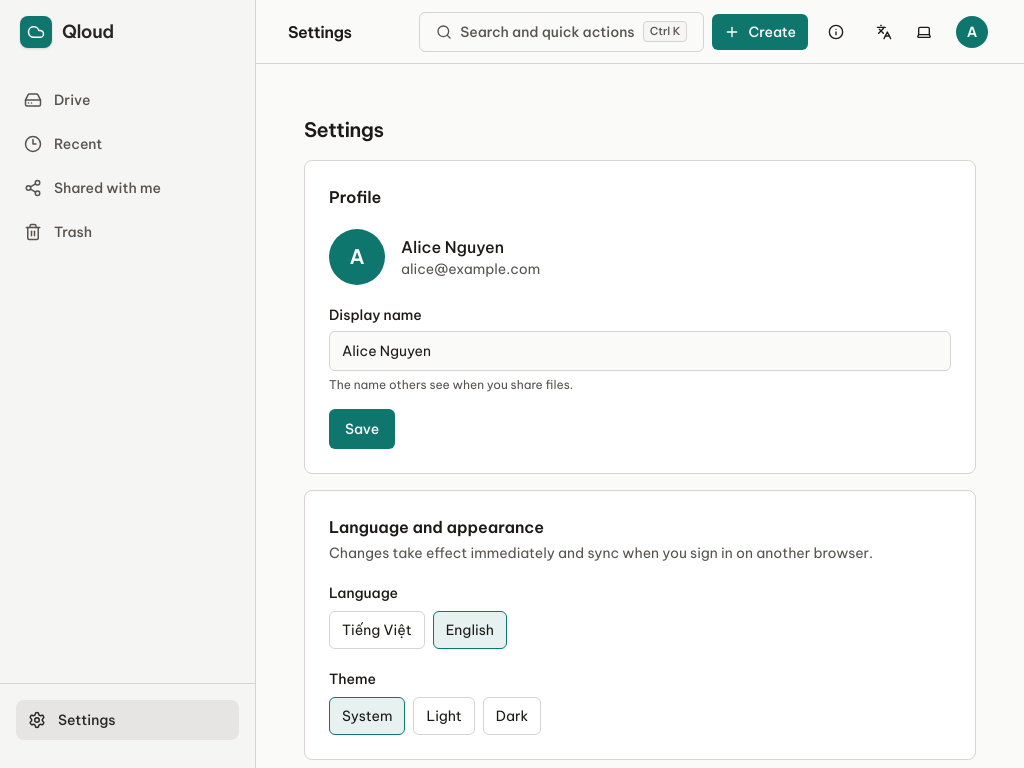
Test: settings (S-13) › shows the profile and saves the display name
Expected: the heading "Profile" is shown, [329,187,381,207]
Expected: the text "alice@example.com" is shown, [401,259,540,279]
Replace the text in the field labelled "Display name" with "  Alice N.  " at (640,351), box [329,331,951,371]
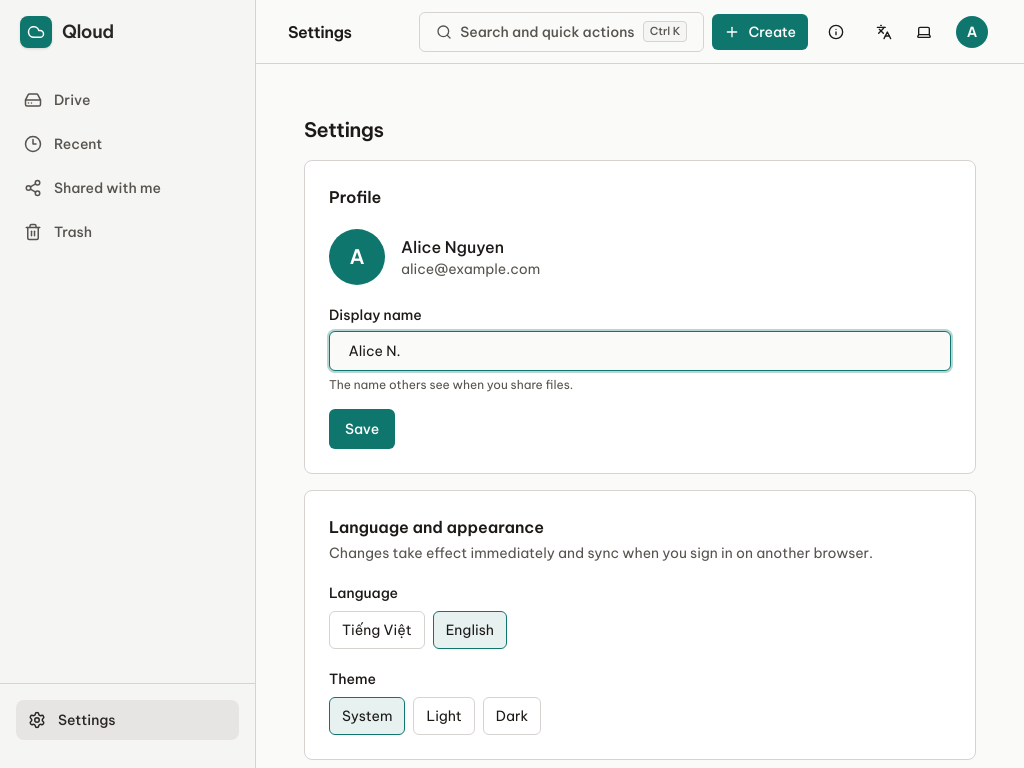
Click the button "Save" at (362,429), box [329,409,395,449]
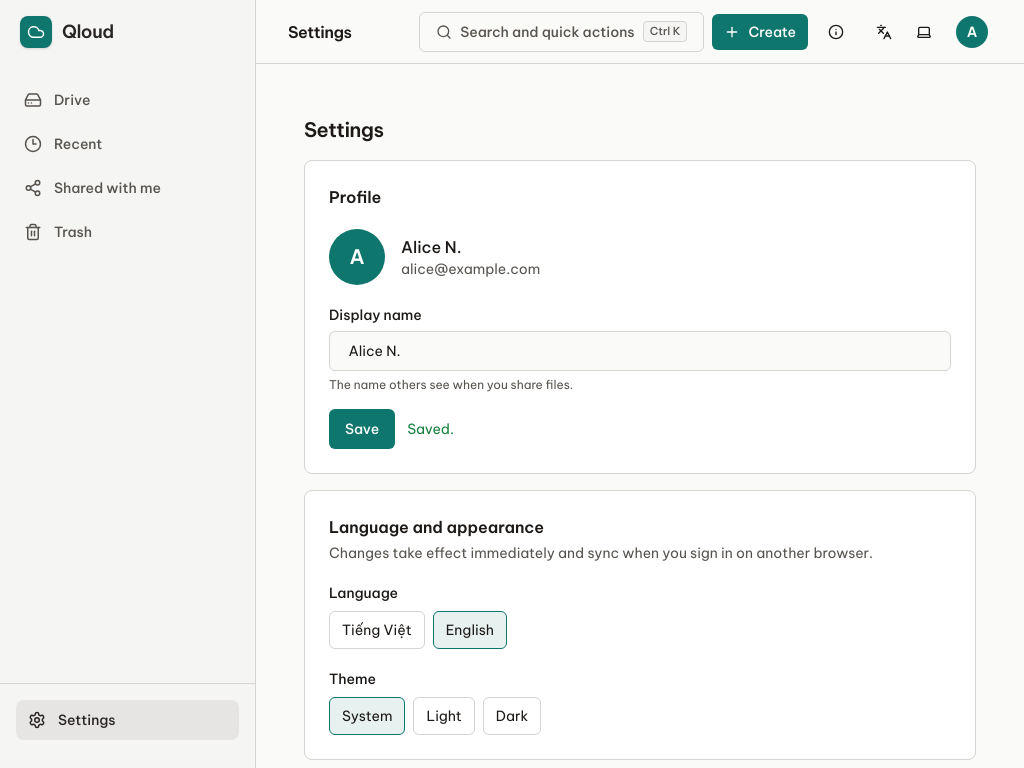
Expected: the text "Saved." is shown, [407,419,454,439]
